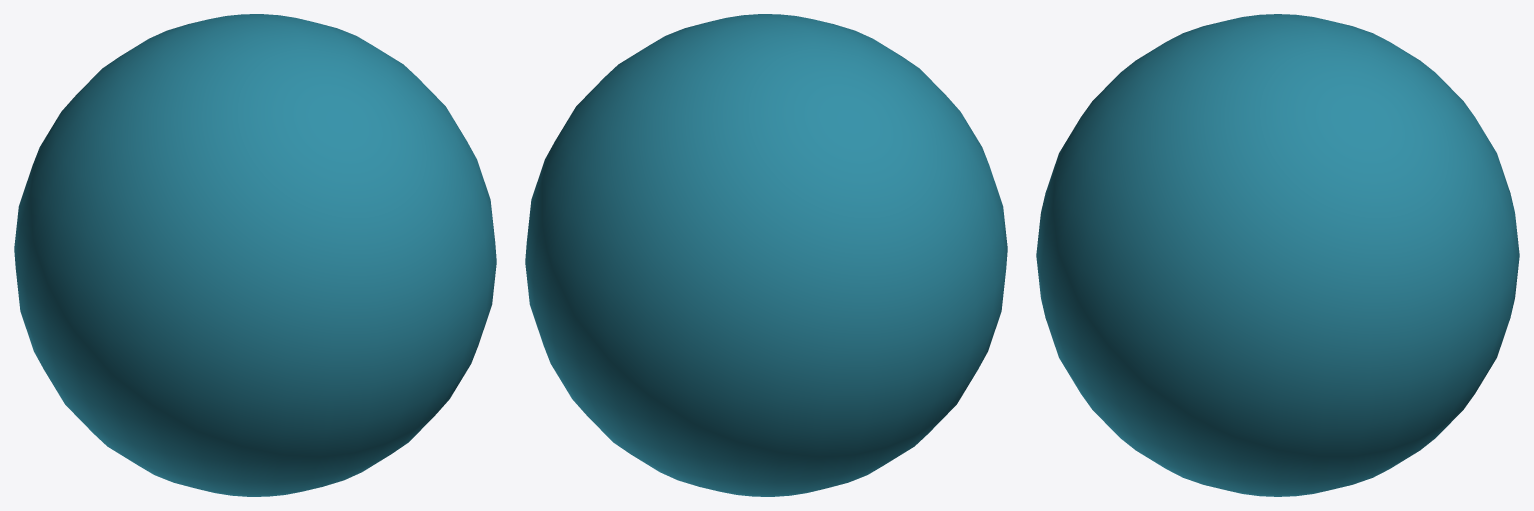
The model's file is environment_test_obj.obj.
The picture shows the model from 3 angles, left to right: view 1: azimuth 30°, elevation 25°; view 2: azimuth 150°, elevation 25°; view 3: azimuth 270°, elevation 25°; orthographic projection.
Visible parts, largest first — view 1: sky2; view 2: sky2; view 3: sky2.
Part boxes in pixels (box(x1,y1,x2,y2)): sky2: box(14, 14, 496, 496); sky2: box(525, 14, 1007, 496); sky2: box(1036, 14, 1519, 496).
Bounding box in the file's own units: 103 × 103 × 103.
